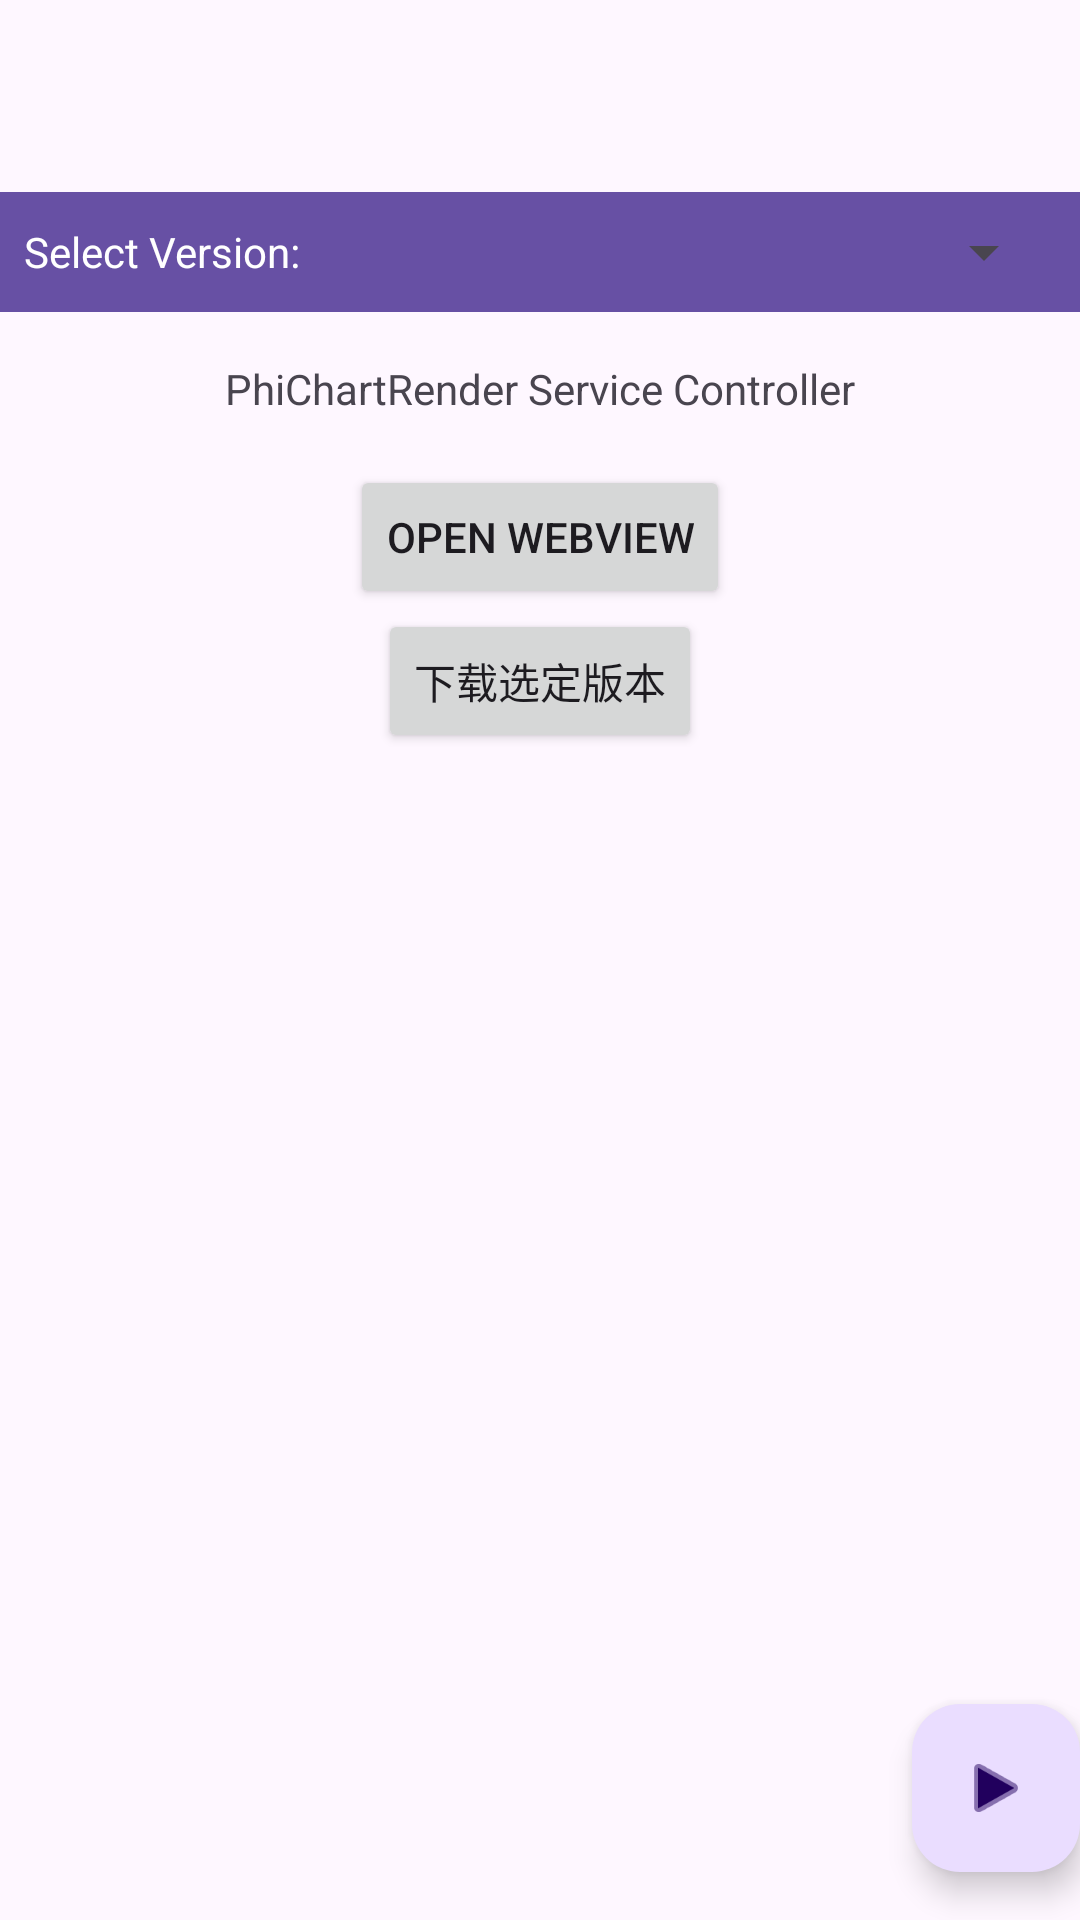

Icons on this 1080 × 1920 Android screen, each with the point to tap as point (x, y):
play: point (996, 1788)
